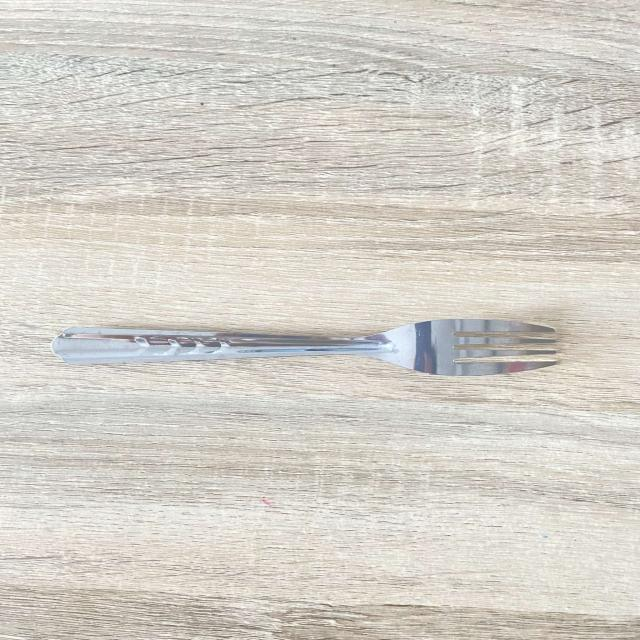fork: (34, 304, 586, 389)
